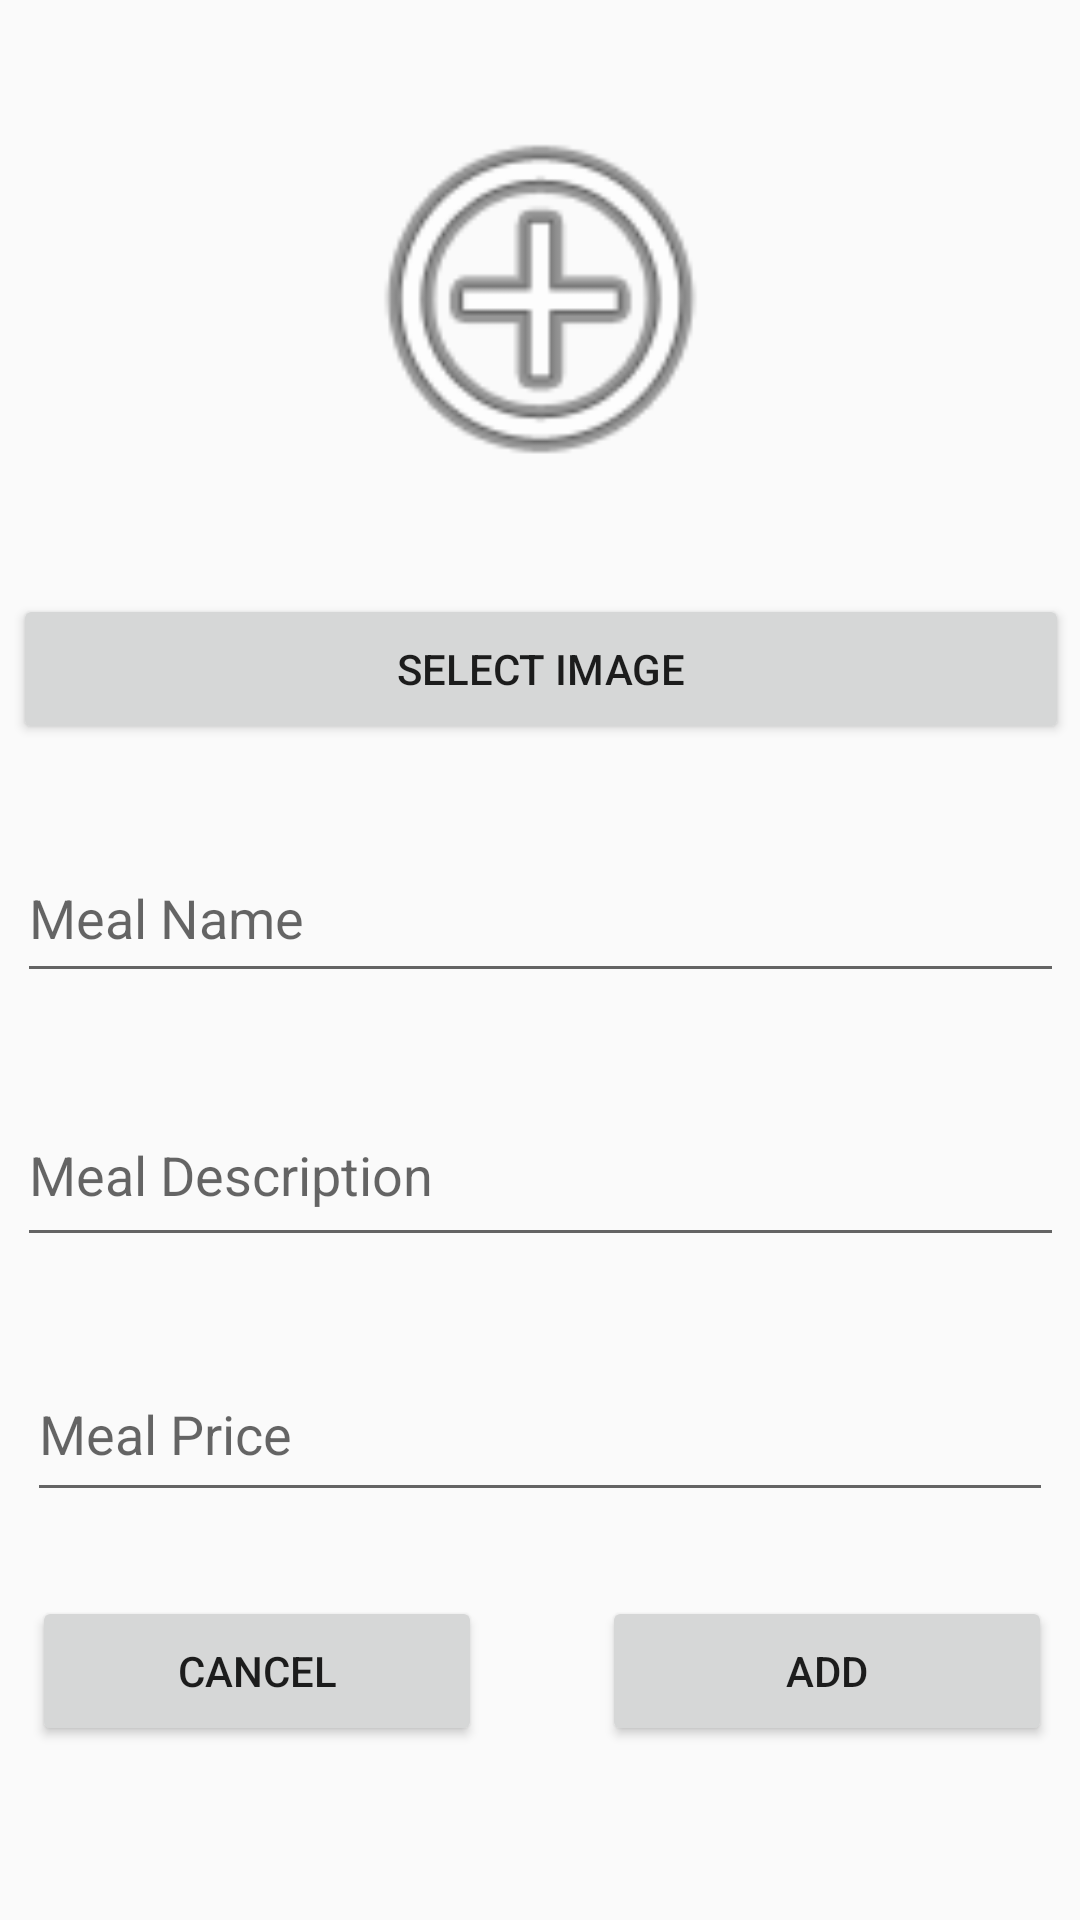

Screen size 1080 x 1920. Icon name, then its box in pixels as (x1, y1, x2, y2):
add: (386, 145, 695, 453)
